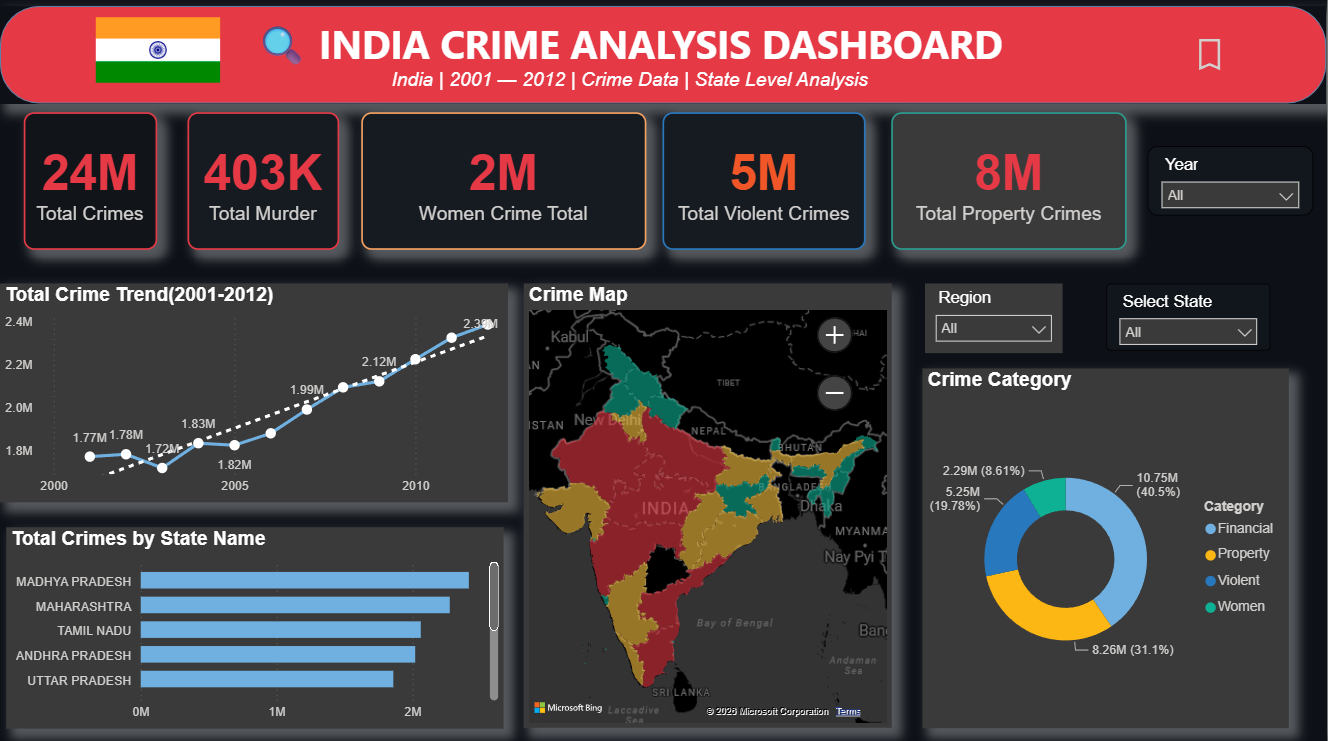

The page's visual inventory and layout, read from the dashboard file:
{"tool":"powerbi","page":{"name":"Front Page","canvas":[1280,720],"ordinal":1},"visuals":[{"type":"shape","box":[0,9.7,1280,94.1],"z":0},{"type":"textbox","box":[241.4,0,749,82.8],"z":1000},{"type":"textbox","box":[372.4,64.8,486.9,38.6],"z":2000},{"type":"card","fields":{"Values":["States.Total Crimes"]},"box":[22.5,112.5,128.8,132.5],"z":3000},{"type":"card","fields":{"Values":["Crime_Summary.Total Murder"]},"box":[181.2,112.5,146.2,132.5],"z":4000},{"type":"card","fields":{"Values":["Women_Crimes.Women Crime Total"]},"box":[348.8,112.5,275,132.5],"z":5000},{"type":"card","fields":{"Values":["Crime_Summary.Total Violent Crimes"]},"box":[640,112.5,196.2,132.5],"z":6000},{"type":"card","fields":{"Values":["Crime_Summary.Total Property Crimes"]},"box":[860,112.5,227.5,132.5],"z":7000},{"type":"lineChart","title":"Total Crime Trend(2001-2012)","fields":{"Category":["Year_Table.Year"],"Y":["Crime_Summary.Total_Crimes"]},"box":[0,277.5,490,211.2],"z":8000},{"type":"donutChart","title":"Crime Category","fields":{"Category":["Crime_Category_Summary.Category"],"Y":["Crime_Category_Summary.Selected Crime Category Total"]},"box":[890,360,353.8,347.5],"z":9000},{"type":"clusteredBarChart","title":"Total Crimes by State Name","fields":{"Category":["States.State_Name"],"Y":["Crime_Summary.Total_Crimes"]},"box":[5.7,512.9,480,194.3],"z":10000},{"type":"filledMap","title":"Crime Map ","fields":{"Category":["States.State_Name"]},"box":[505,277.5,355,428.8],"z":11000},{"type":"slicer","fields":{"Values":["Year_Table.Year"]},"box":[1107.5,145,160,67.5],"z":12000},{"type":"slicer","title":"Select State","fields":{"Values":["States.State_Name"]},"box":[1067.5,277.5,158.8,65],"z":13000},{"type":"slicer","fields":{"Values":["States.Region"]},"box":[892.5,277.5,132.5,67.5],"z":14000},{"type":"image","box":[86.6,20.2,131.3,63.5],"z":15000},{"type":"actionButton","box":[1147,36.1,99.6,40.4],"z":16000}]}

Visuals, with their boxes in screenshot pixels (x1, y1, x2, y2), scaled from the page's 1280x720 canvas onto the 1328x741 screenshot:
shape: <bbox>0, 10, 1327, 107</bbox>
textbox: <bbox>250, 0, 1028, 85</bbox>
textbox: <bbox>386, 67, 892, 106</bbox>
card - States.Total Crimes: <bbox>23, 116, 157, 252</bbox>
card - Crime_Summary.Total Murder: <bbox>188, 116, 340, 252</bbox>
card - Women_Crimes.Women Crime Total: <bbox>362, 116, 647, 252</bbox>
card - Crime_Summary.Total Violent Crimes: <bbox>664, 116, 868, 252</bbox>
card - Crime_Summary.Total Property Crimes: <bbox>892, 116, 1128, 252</bbox>
"Total Crime Trend(2001-2012)" lineChart: <bbox>0, 286, 508, 503</bbox>
"Crime Category" donutChart: <bbox>923, 370, 1290, 728</bbox>
"Total Crimes by State Name" clusteredBarChart: <bbox>6, 528, 504, 728</bbox>
"Crime Map " filledMap: <bbox>524, 286, 892, 727</bbox>
slicer - Year_Table.Year: <bbox>1149, 149, 1315, 219</bbox>
"Select State" slicer: <bbox>1108, 286, 1272, 352</bbox>
slicer - States.Region: <bbox>926, 286, 1063, 355</bbox>
image: <bbox>90, 21, 226, 86</bbox>
actionButton: <bbox>1190, 37, 1293, 79</bbox>
